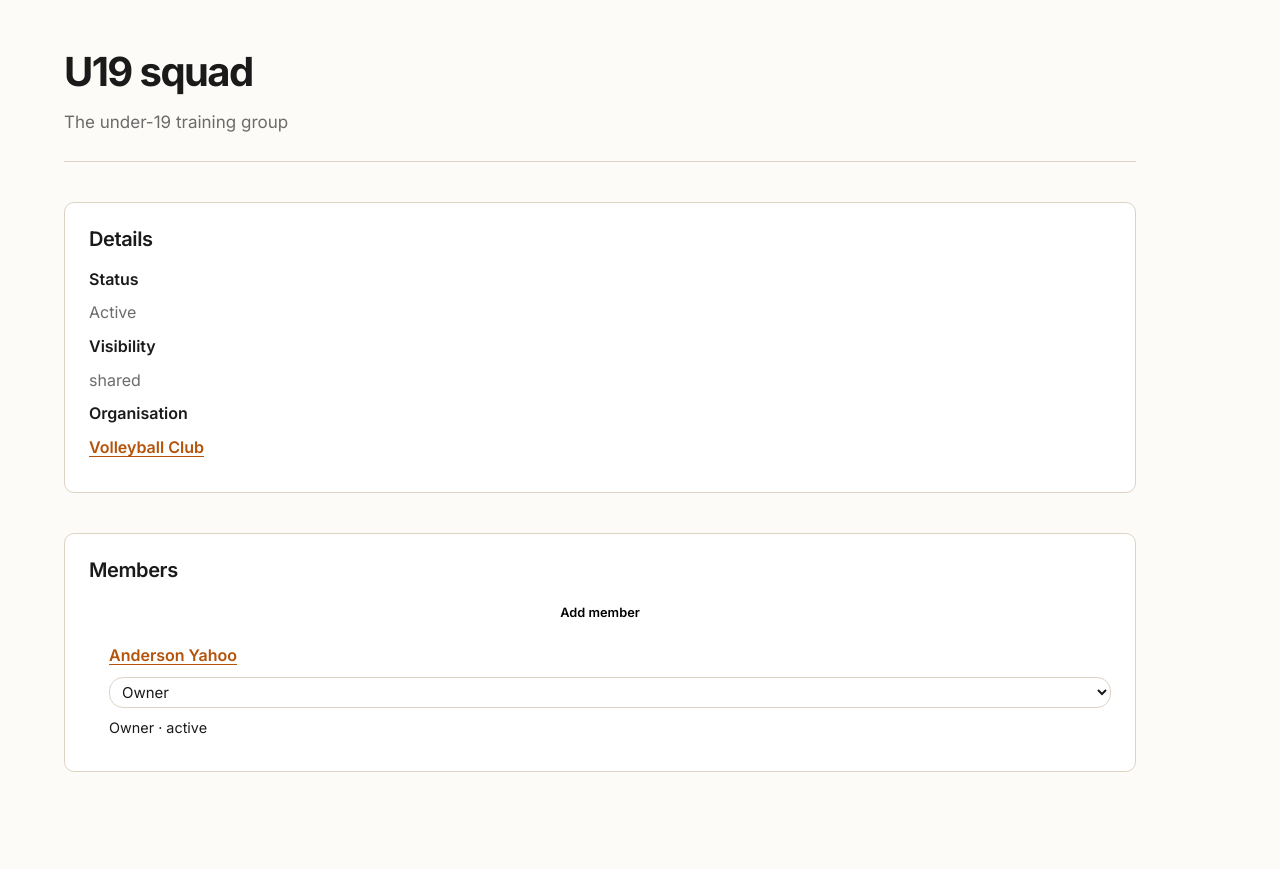
Test case: GroupDetail members › marks a candidate already on the roster
Expected: the link "Anderson Yahoo" is shown, [109, 646, 237, 666]
Click the button "Add member". click: coordinates (600, 613)
box: [89, 598, 1111, 628]
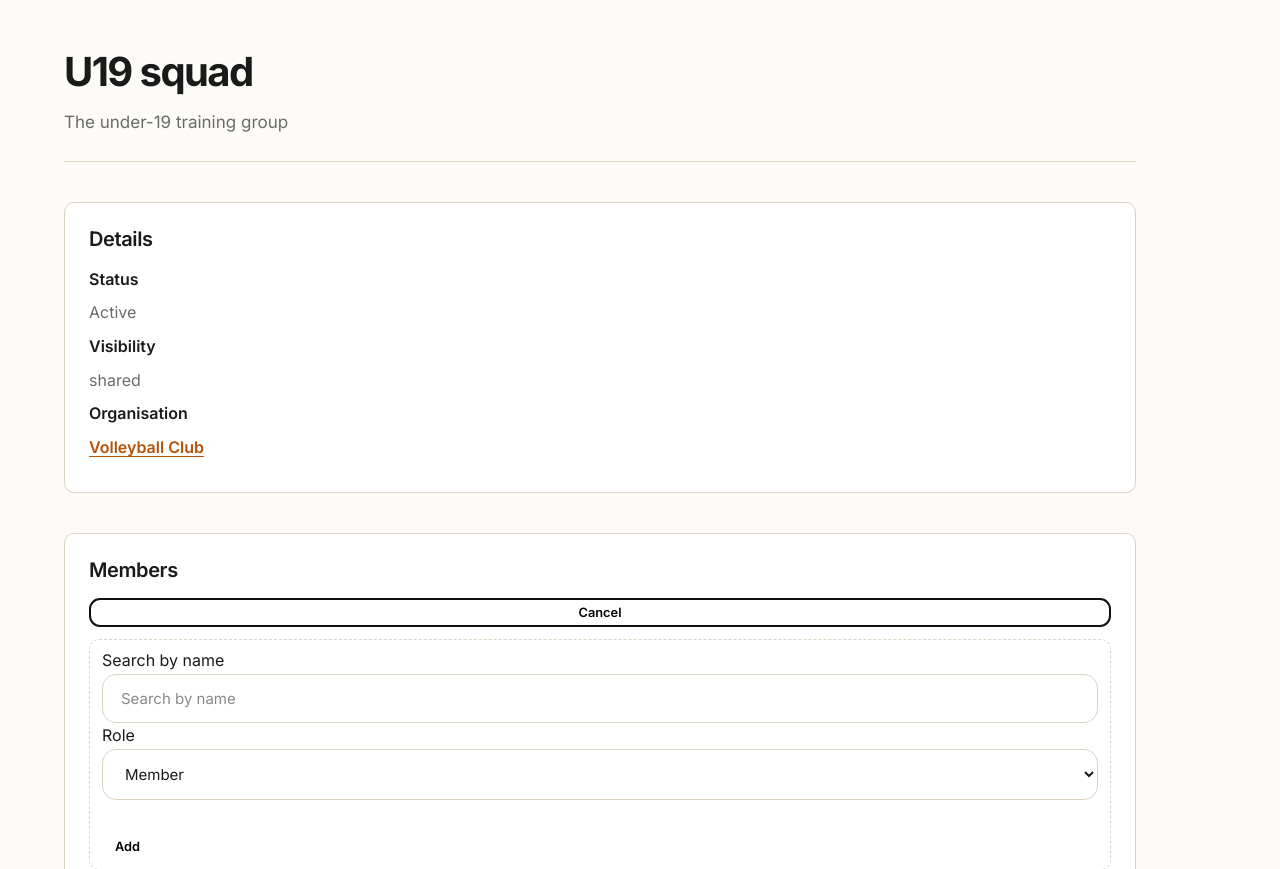
Type "And" into the field labelled "Search by name". click: coordinates (600, 698)
box: [102, 674, 1098, 723]
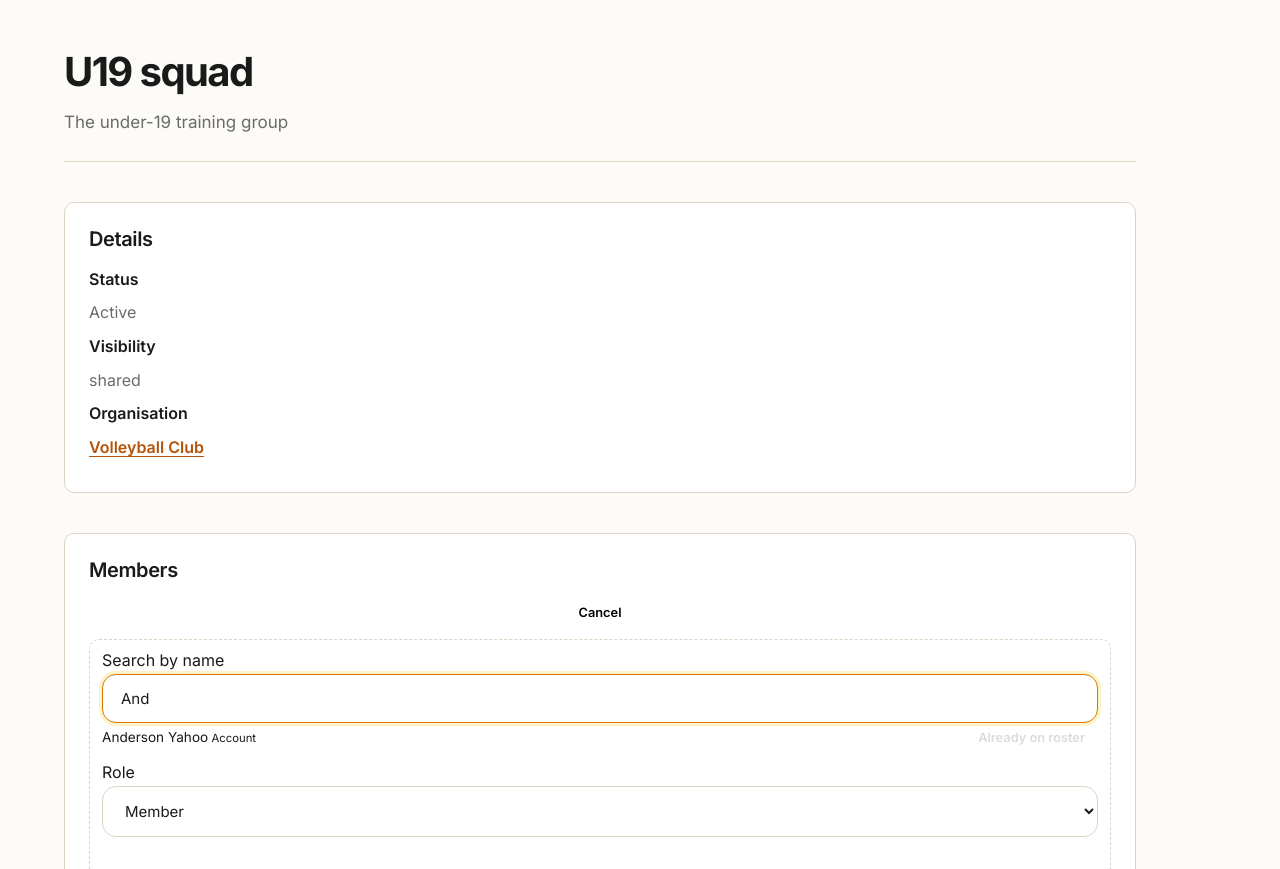
Expected: the button "Already on roster" is disabled, [965, 723, 1098, 752]
